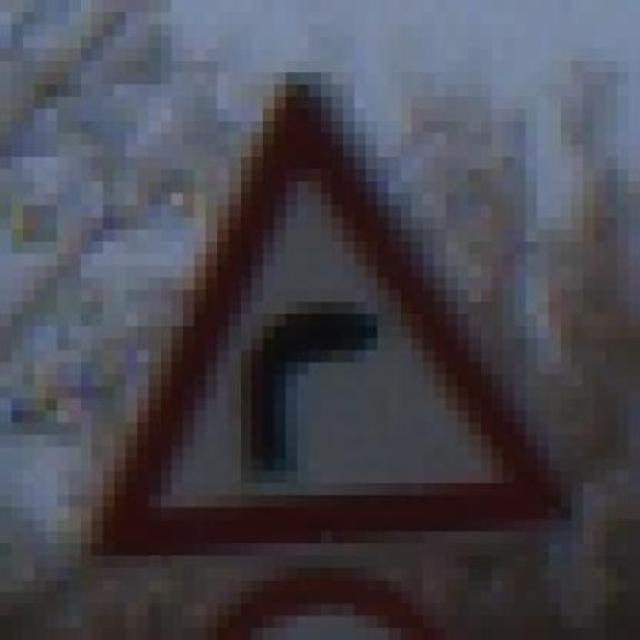Dangerous Rright Curve Ahead: (68, 48, 583, 555)
